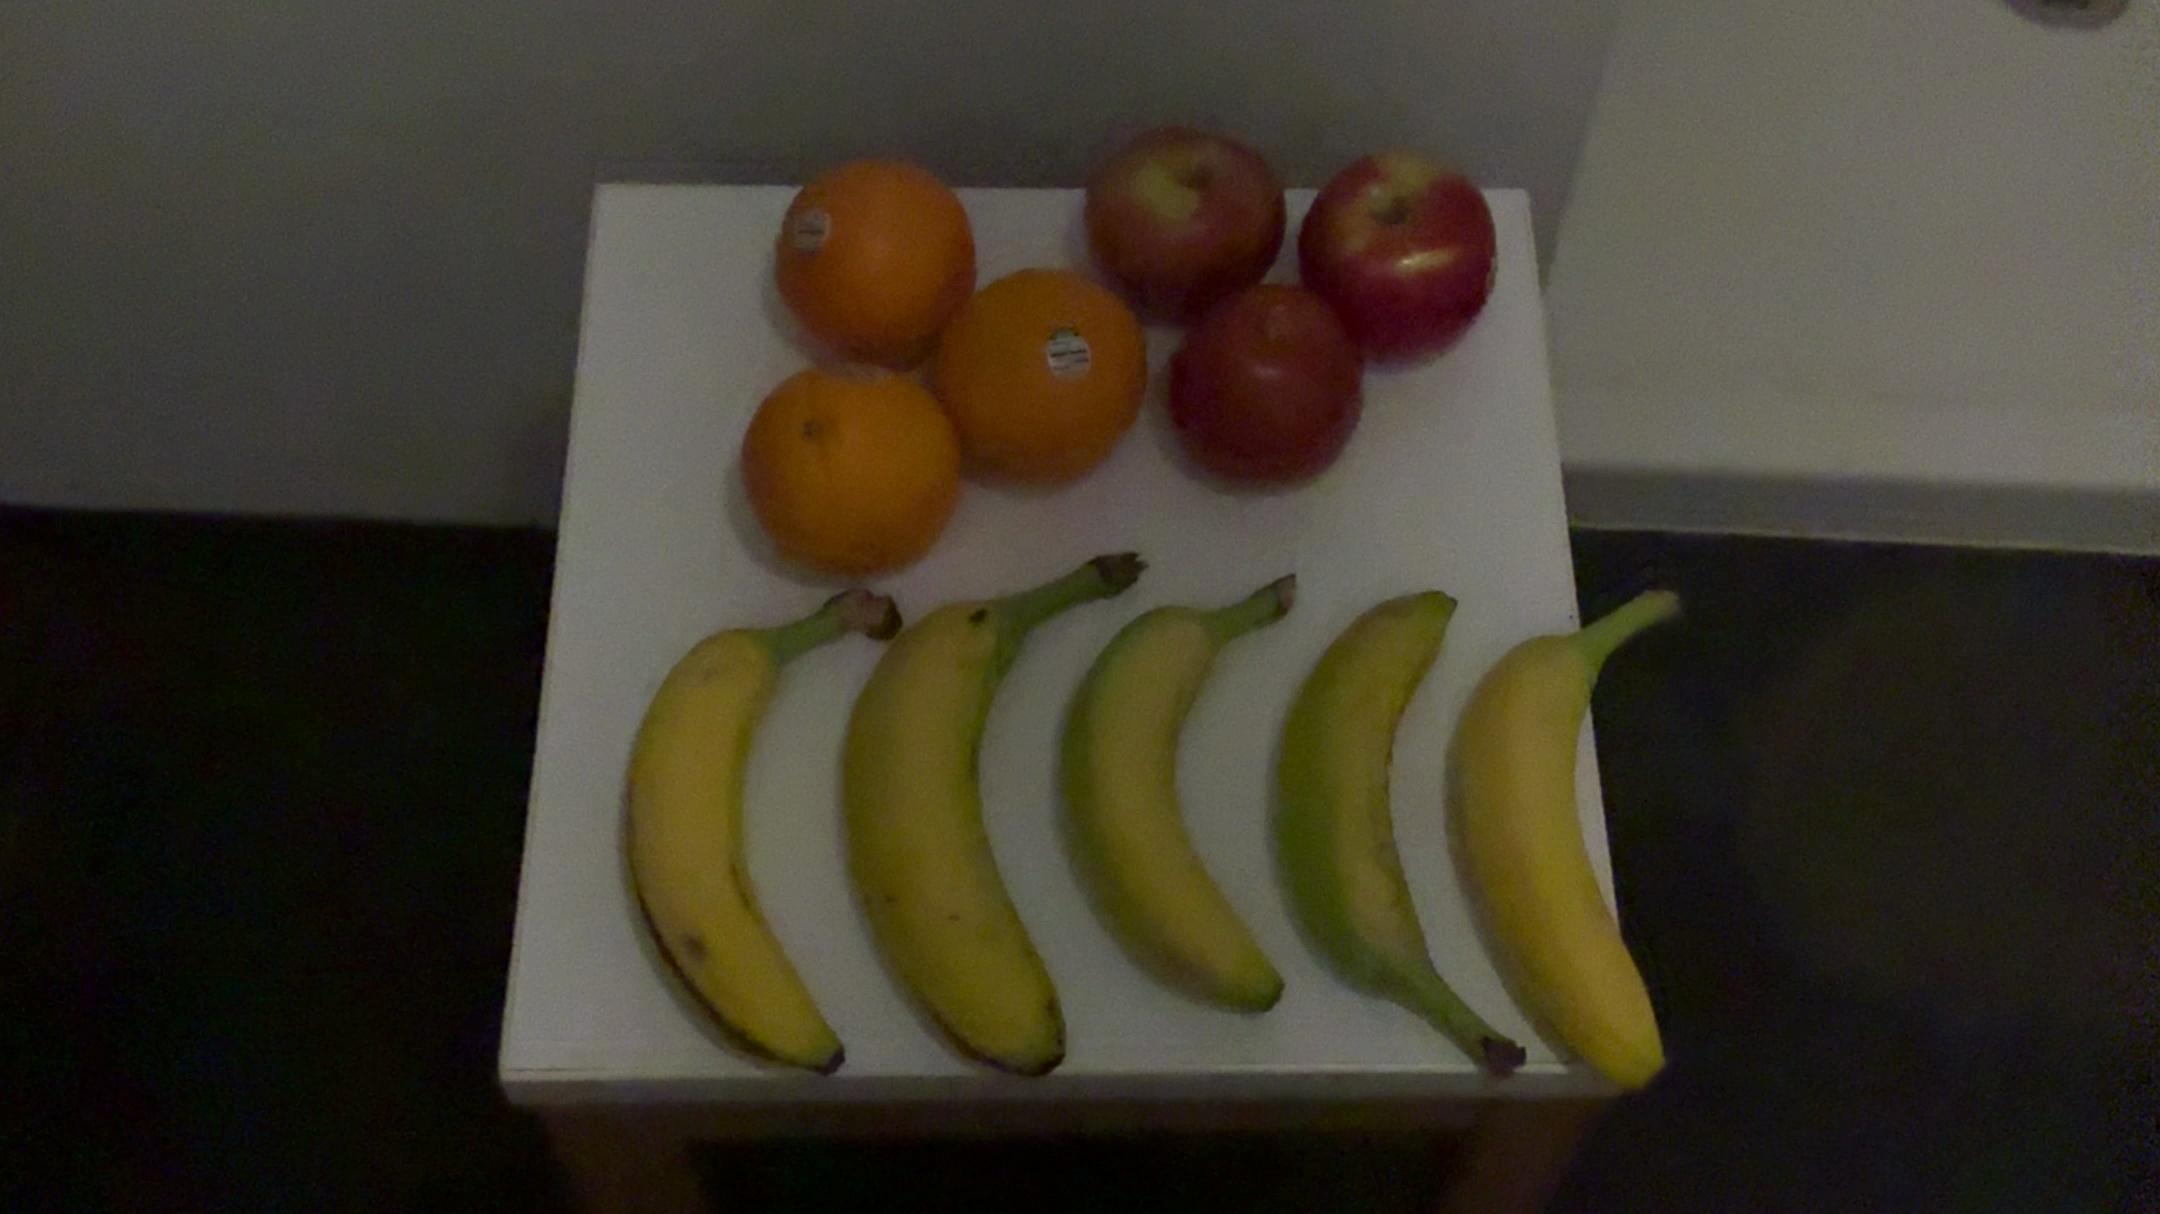apple: (1283, 151, 1521, 384), (1153, 285, 1366, 493), (1079, 119, 1283, 321)
banana: (826, 533, 1148, 1109), (611, 585, 902, 1091), (1251, 574, 1527, 1089), (1452, 567, 1699, 1109), (1053, 565, 1308, 1039)
orange: (727, 358, 966, 595), (921, 267, 1144, 499), (760, 141, 972, 361)
